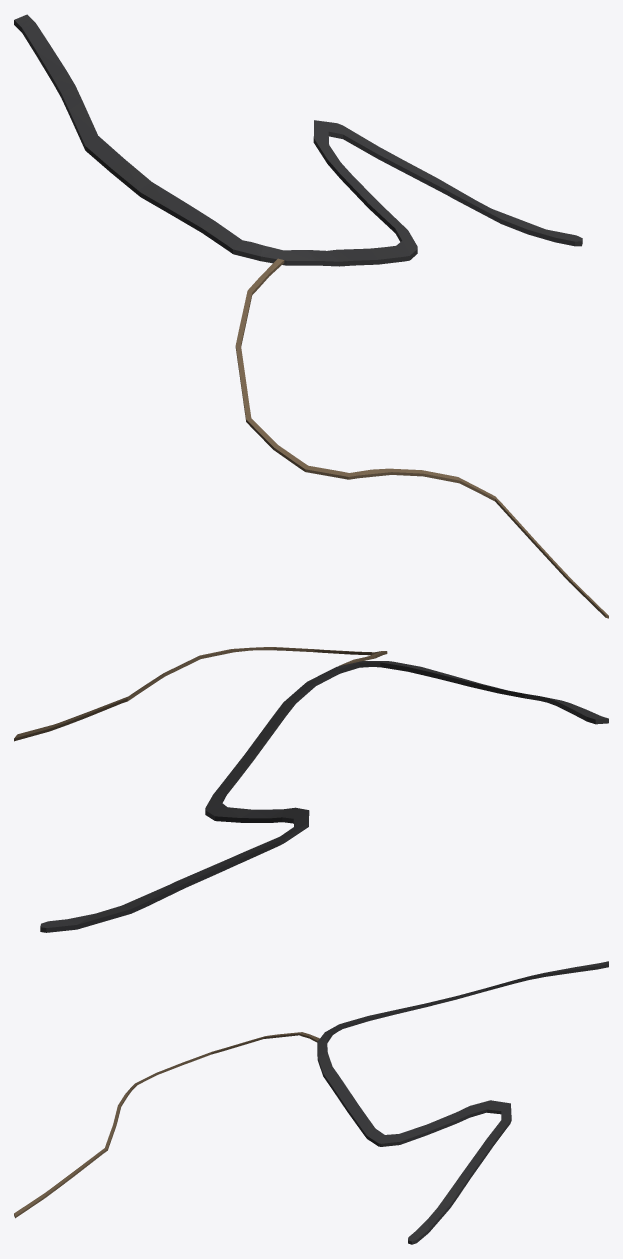
The picture shows the model from 3 angles, top to bottom: view 1: azimuth 30°, elevation 25°; view 2: azimuth 210°, elevation 25°; view 3: azimuth 270°, elevation 25°; orthographic projection. The views are drawn at different scales.
Bounding box in the file's own units: 127 × 78.48 × 202.
